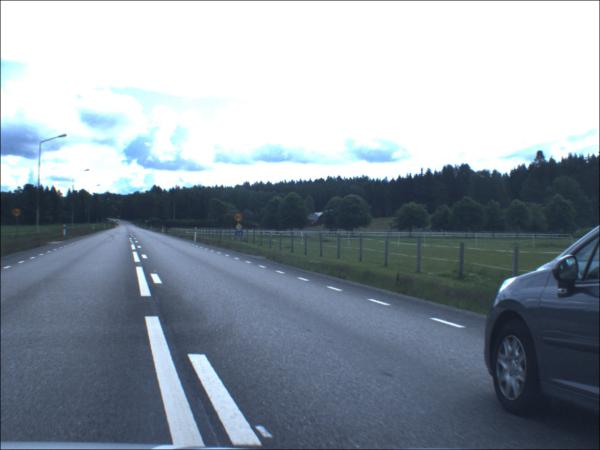80_SIGN: (236, 213, 245, 224), (14, 209, 24, 218)
PRIORITY_ROAD: (237, 225, 244, 233)
